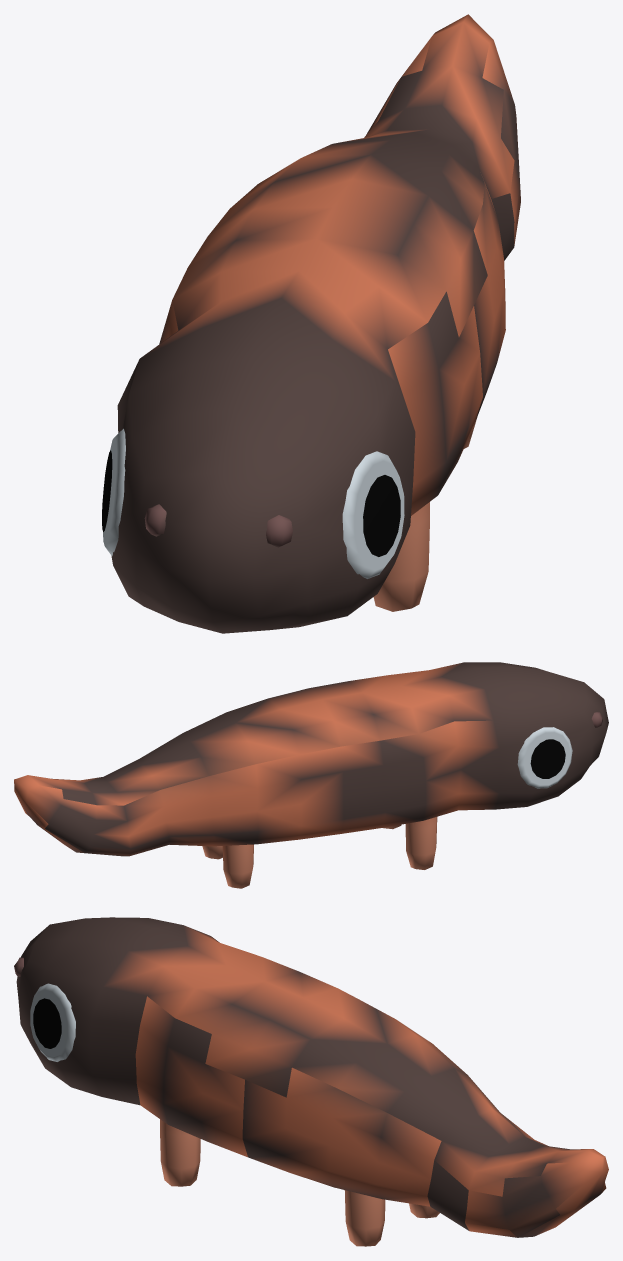
The model's file is GilaMonster.glb.
3 views of the same model, one above another, from view 1: azimuth 30°, elevation 25°; view 2: azimuth 150°, elevation 25°; view 3: azimuth 270°, elevation 25° (orthographic). The views are drawn at different scales.
Visible parts, largest first — view 1: 57; view 2: 57; view 3: 57.
Boxes of the visible parts, x1,y1,x2,y2 form: 57: [102, 14, 520, 633]; 57: [14, 662, 608, 888]; 57: [14, 917, 608, 1246].
Bounding box in the file's own units: 0.7669 × 0.3289 × 0.8389.
